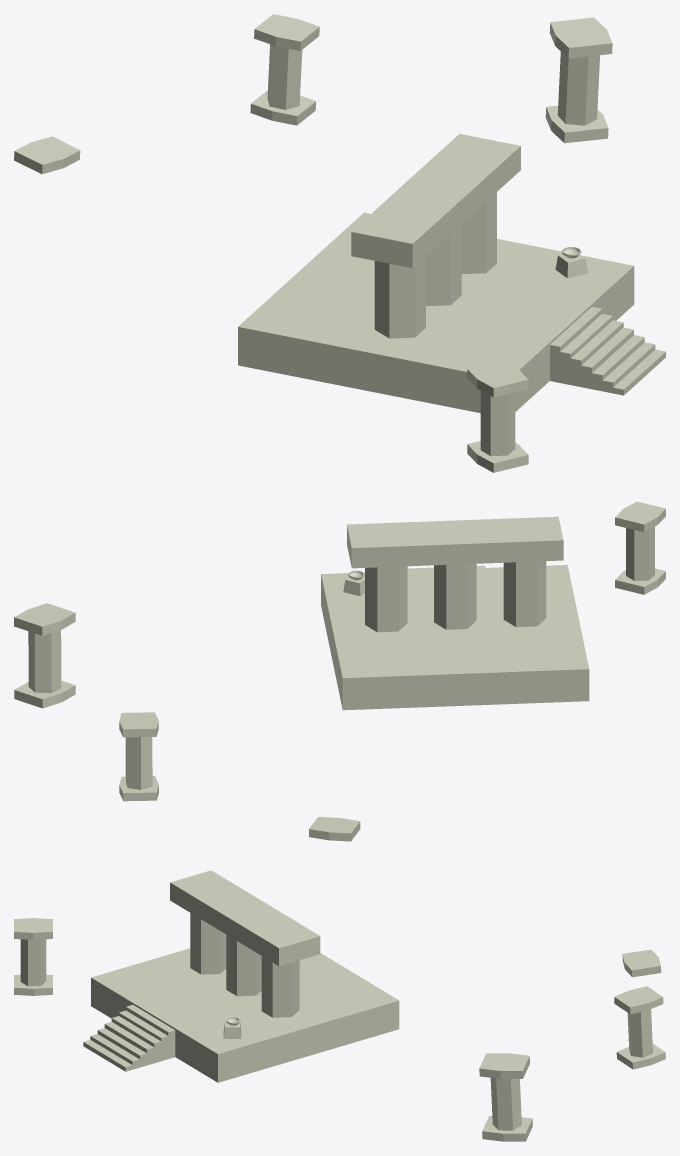
File: ruinsGeneric.fbx
3 renders of one model, top to bottom at view 1: azimuth 30°, elevation 25°; view 2: azimuth 150°, elevation 25°; view 3: azimuth 270°, elevation 25°, orthographic. The views are drawn at different scales.
Visible parts, largest first — view 1: platform_geo, ruins_top_geo, pillar_mid_geo (×3), stairs_geo, pillar_top_geo (×3), pillar_base_geo (×4), ruins_column_1_geo, ruins_column_2_geo, ruins_column_3_geo; view 2: platform_geo, ruins_top_geo, pillar_mid_geo (×3), pillar_top_geo (×3), pillar_base_geo (×4), ruins_column_1_geo, ruins_column_3_geo, ruins_column_2_geo; view 3: platform_geo, ruins_top_geo, stairs_geo, pillar_mid_geo (×3), pillar_top_geo (×3), pillar_base_geo (×4), ruins_column_3_geo, ruins_column_1_geo, ruins_column_2_geo.
Part boxes in pixels (bbox=[...]): platform_geo: bbox=[238, 212, 634, 413]; ruins_top_geo: bbox=[351, 134, 520, 268]; pillar_mid_geo (×3): bbox=[267, 44, 599, 456]; stairs_geo: bbox=[550, 307, 665, 395]; pillar_top_geo (×3): bbox=[254, 14, 612, 397]; pillar_base_geo (×4): bbox=[14, 90, 608, 472]; ruins_column_1_geo: bbox=[374, 256, 425, 338]; ruins_column_2_geo: bbox=[426, 224, 461, 305]; ruins_column_3_geo: bbox=[461, 192, 496, 274]; platform_geo: bbox=[321, 565, 589, 710]; ruins_top_geo: bbox=[347, 516, 563, 568]; pillar_mid_geo (×3): bbox=[28, 526, 654, 789]; pillar_top_geo (×3): bbox=[14, 501, 665, 737]; pillar_base_geo (×4): bbox=[14, 568, 665, 841]; ruins_column_1_geo: bbox=[503, 561, 546, 627]; ruins_column_3_geo: bbox=[365, 566, 407, 632]; ruins_column_2_geo: bbox=[434, 563, 476, 629]; platform_geo: bbox=[91, 948, 399, 1082]; ruins_top_geo: bbox=[170, 870, 320, 966]; stairs_geo: bbox=[83, 1004, 175, 1071]; pillar_mid_geo (×3): bbox=[20, 939, 652, 1130]; pillar_top_geo (×3): bbox=[14, 918, 663, 1078]; pillar_base_geo (×4): bbox=[14, 949, 665, 1141]; ruins_column_3_geo: bbox=[261, 956, 299, 1017]; ruins_column_1_geo: bbox=[190, 913, 226, 974]; ruins_column_2_geo: bbox=[226, 934, 261, 996].
Size of the model in its own units: 25.08 by 6.75 by 36.36.
